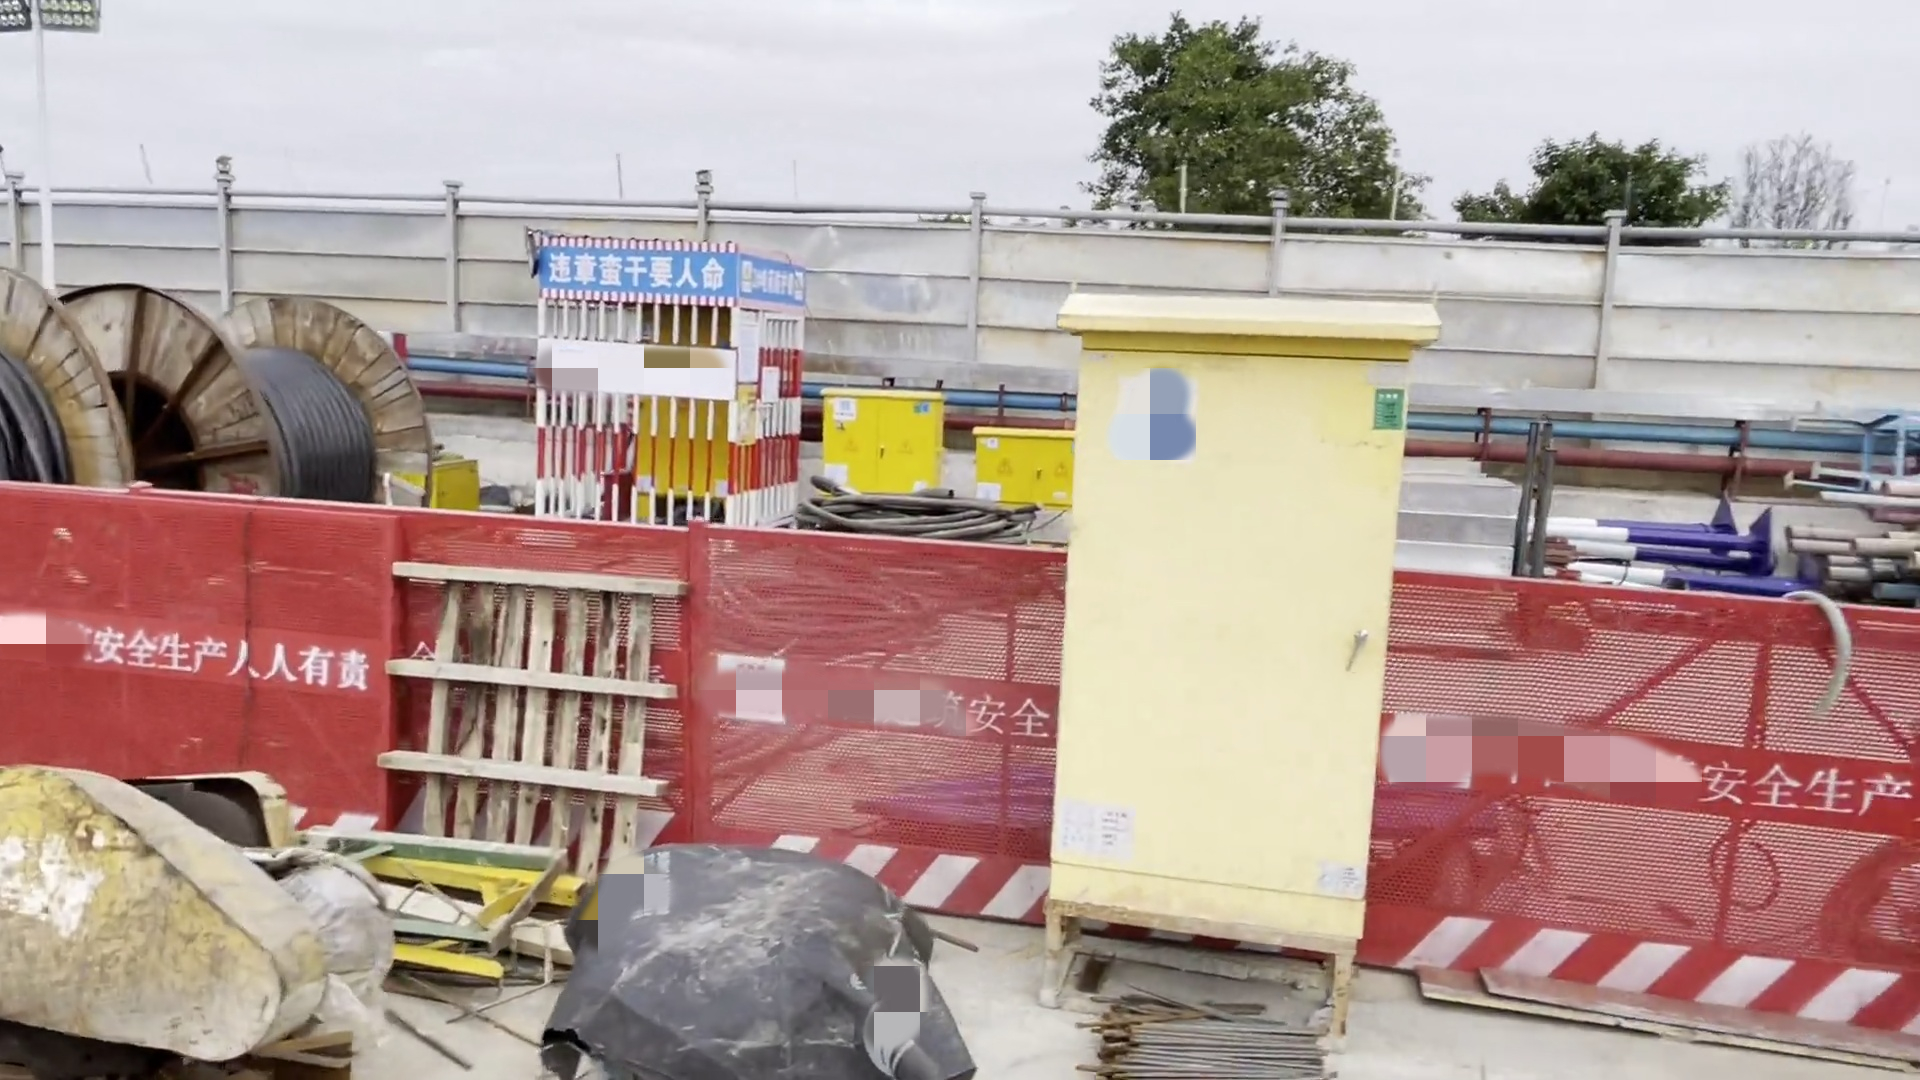ebox: (1035, 287, 1383, 1036), (640, 297, 727, 509), (812, 380, 931, 497), (964, 423, 1080, 521)
fence: (411, 504, 1047, 916), (1381, 587, 1920, 1034), (3, 473, 396, 800)
rebar: (1102, 993, 1308, 1080)
slogan: (534, 239, 735, 302)
